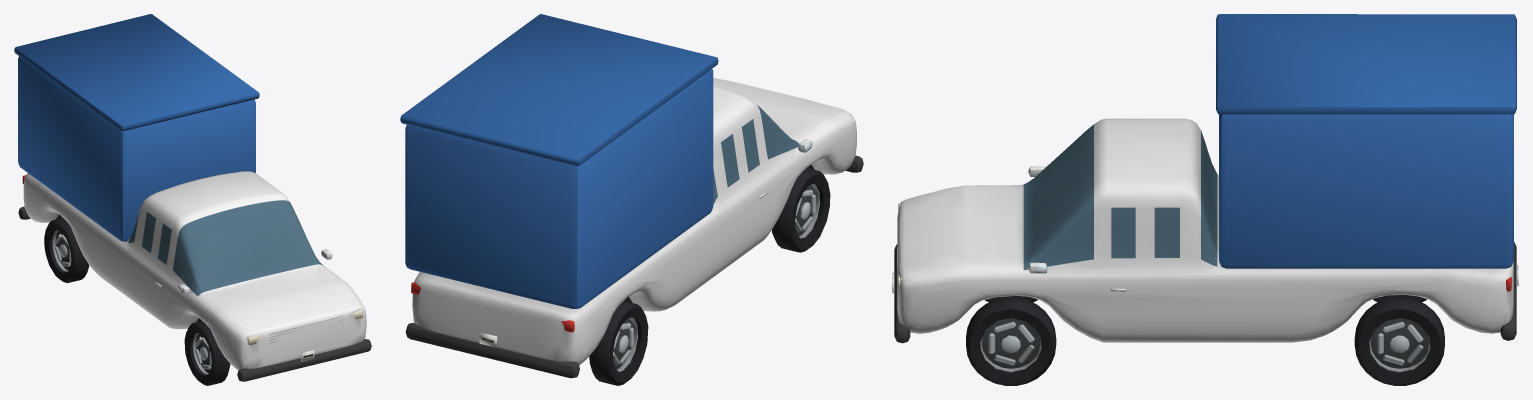
File: veh-tamTruck.glb
3 views of the same model, side by side, from view 1: azimuth 30°, elevation 25°; view 2: azimuth 150°, elevation 25°; view 3: azimuth 270°, elevation 25° (orthographic). The views are drawn at different scales.
Visible parts, largest first — view 1: body, wheel1, wheel3; view 2: body, wheel3, wheel1; view 3: body, wheel2, wheel0.
Boxes of the visible parts, box(x1,y1,x2,y2) form: body: box(14, 14, 371, 381); wheel1: box(184, 321, 230, 385); wheel3: box(44, 217, 89, 283); body: box(400, 14, 863, 378); wheel3: box(589, 301, 648, 385); wheel1: box(772, 168, 830, 252); body: box(892, 14, 1518, 343); wheel2: box(1354, 297, 1444, 385); wheel0: box(966, 297, 1056, 385).
Size of the model in its own units: 1.78 by 2.33 by 4.67.
